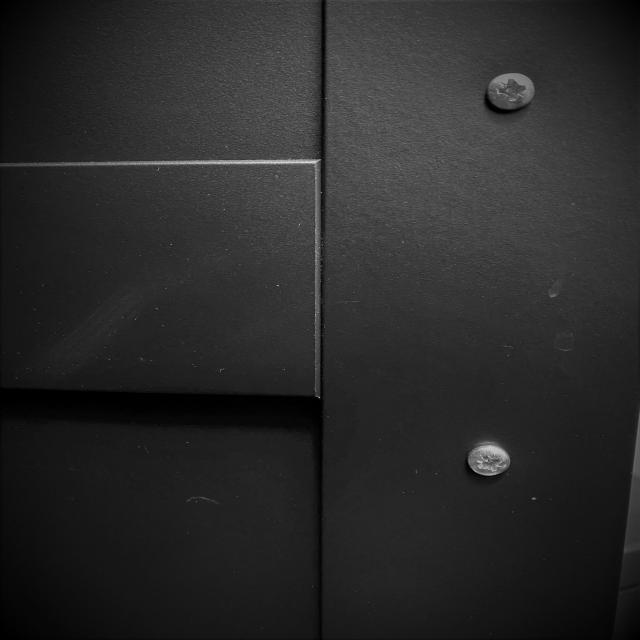PhillipsScrewHead: (488, 72, 537, 110), (466, 445, 512, 477)
